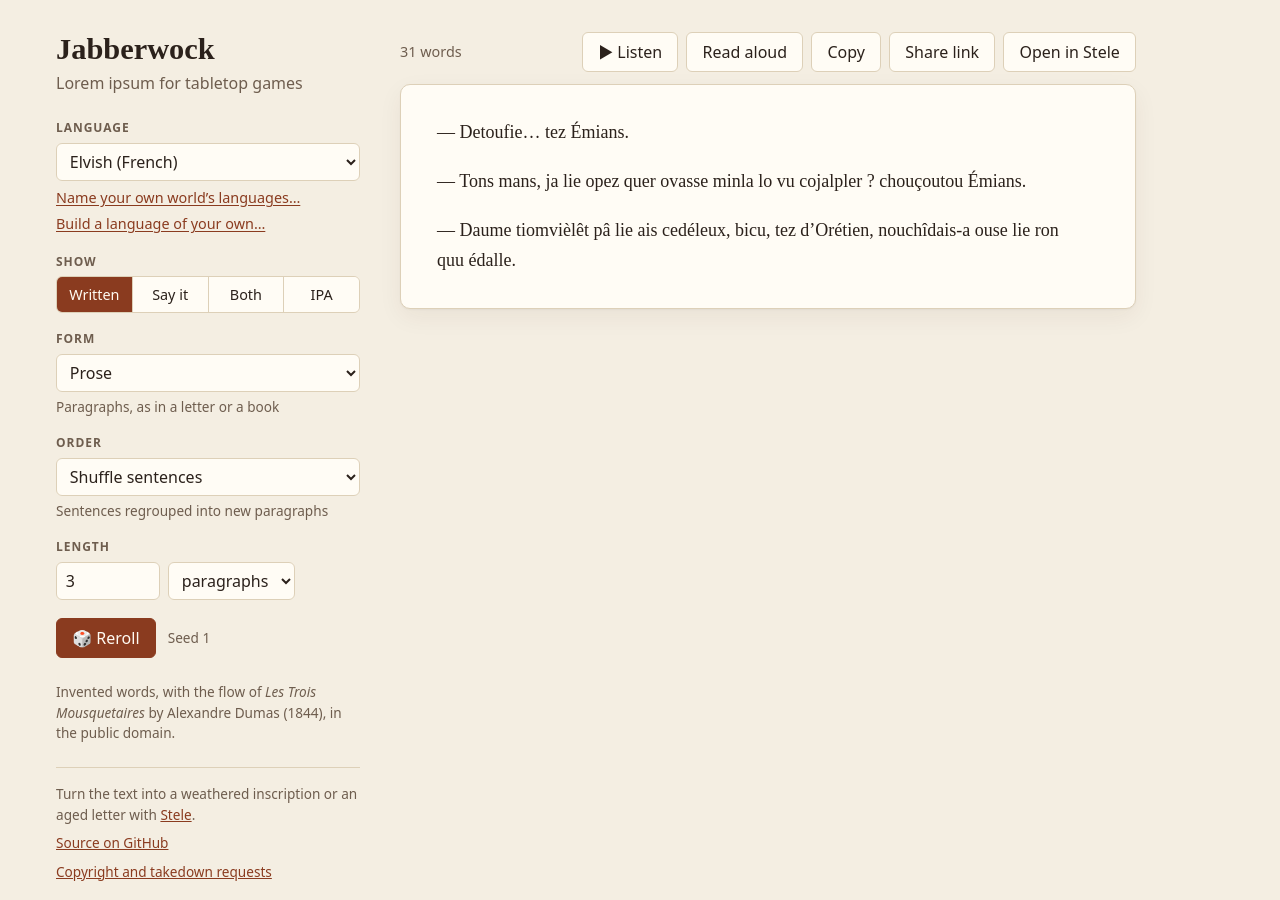
Test: App › shows how to say it, with a tip for voicing it
What coordinates should you click on to do the following:
click the radio button labelled "Say it"
I would click on:
 (170, 294)
Its box is [132, 277, 208, 312].
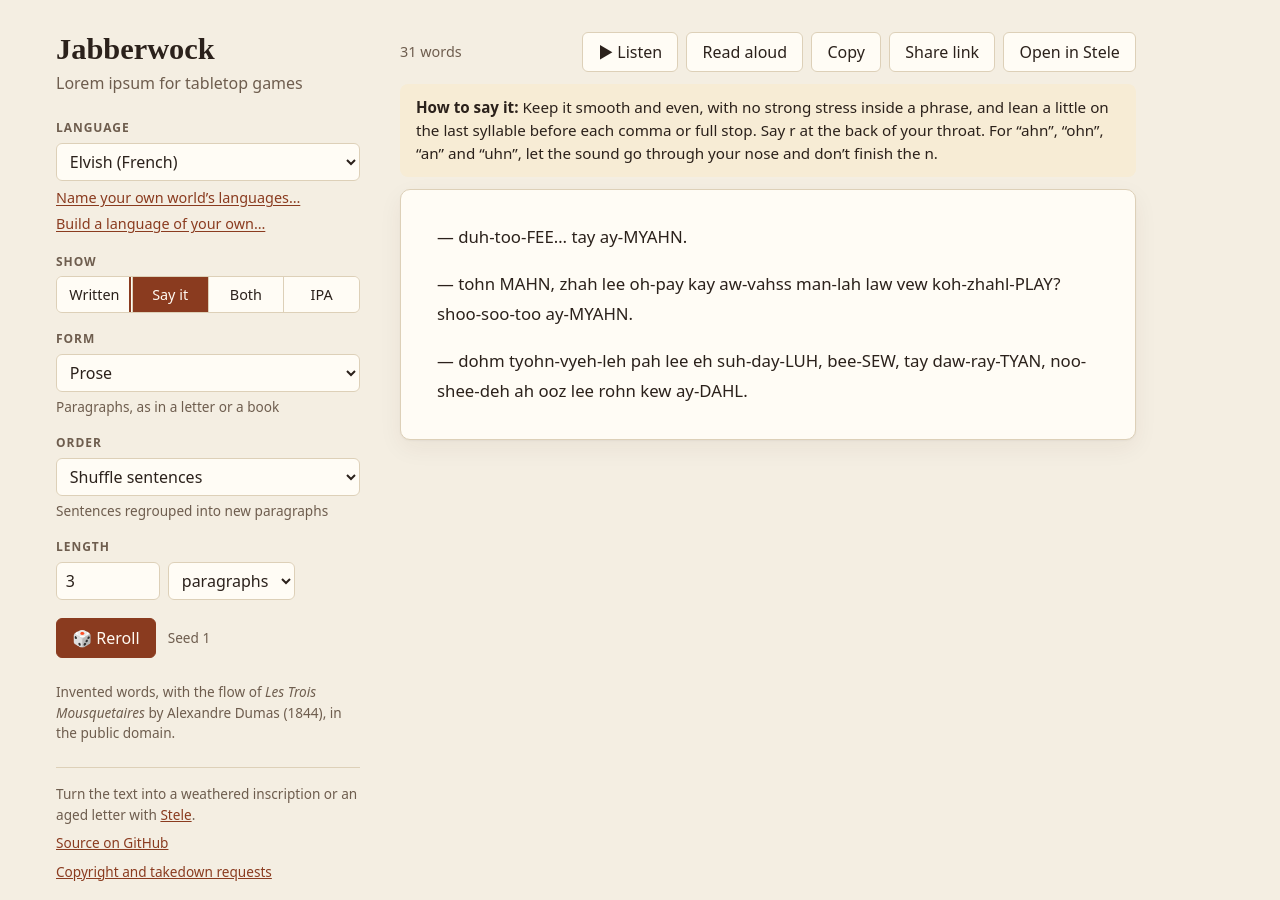
Result: the text "How to say it:" is shown at [416, 97, 518, 117]
